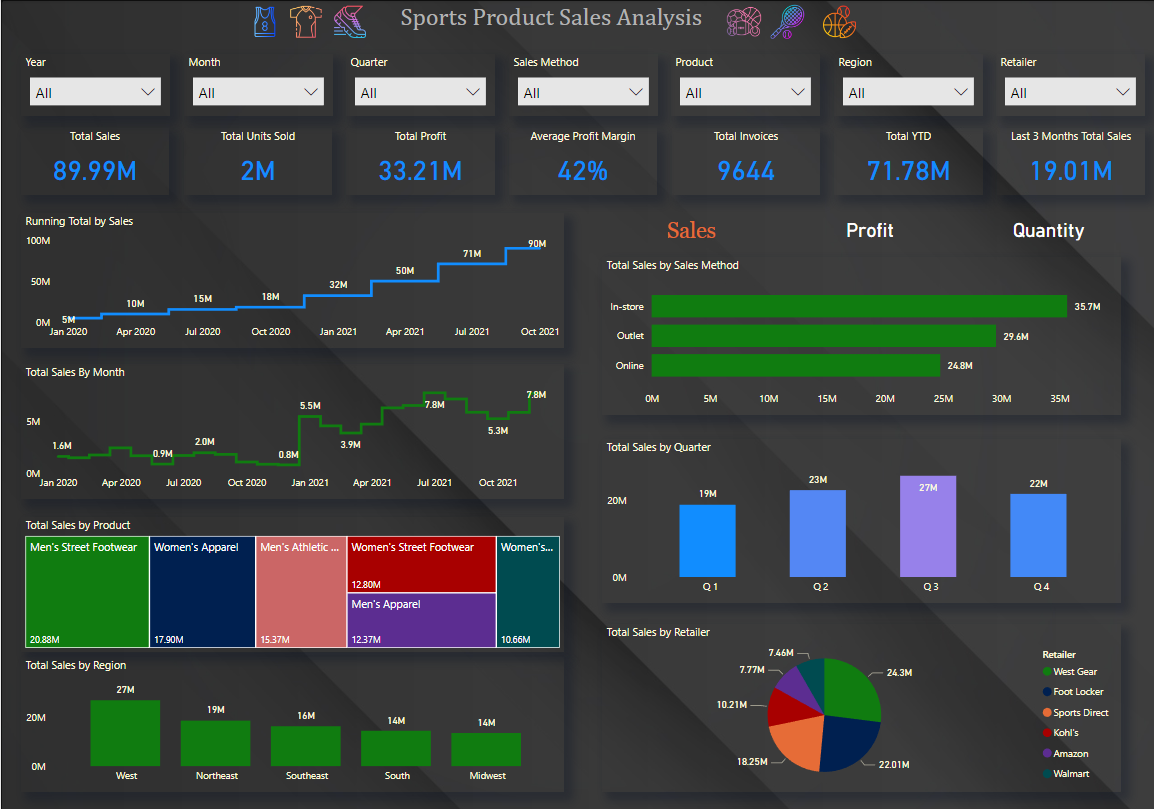

Layout of this report page (visuals, bound fields, positions):
{"tool":"powerbi","page":{"name":"Page 1","canvas":[1280,900],"ordinal":0},"visuals":[{"type":"textbox","box":[437.4,0,406.3,47.6],"z":0},{"type":"slicer","title":"Year","fields":{"Values":["calender.Year"]},"box":[22.2,59.9,165.1,68.7],"z":1000},{"type":"slicer","title":"Month","fields":{"Values":["calender.Month"]},"box":[202.8,59.9,165.1,68.7],"z":2000},{"type":"slicer","title":"Quarter","fields":{"Values":["calender.quarter"]},"box":[382.4,59.9,165.1,68.7],"z":3000},{"type":"slicer","title":"Sales Method","fields":{"Values":["Dim_Sales Method.Sales Method"]},"box":[563.1,59.9,165.1,68.7],"z":4000},{"type":"slicer","title":"Product","fields":{"Values":["Dim_Products.Product"]},"box":[742.6,59.9,165.1,68.7],"z":5000},{"type":"slicer","title":"Region","fields":{"Values":["Dim_Region.Region"]},"box":[923.3,59.9,165.1,68.7],"z":6000},{"type":"slicer","title":"Retailer","fields":{"Values":["Dim_Retailer.Retailer"]},"box":[1102.8,59.9,165.1,68.7],"z":7000},{"type":"card","title":"Total Sales","fields":{"Values":["Sum(Fact_SportProducts.Total Sales)"]},"box":[22.2,141.9,164,74.3],"z":8000},{"type":"card","title":"Total Units Sold","fields":{"Values":["Sum(Fact_SportProducts.Units Sold)"]},"box":[202.8,141.9,164,74.3],"z":9000},{"type":"card","title":"Total Profit","fields":{"Values":["Sum(Fact_SportProducts.Operating Proft)"]},"box":[382.4,141.9,165.1,74.3],"z":10000},{"type":"card","title":"Average Profit Margin","fields":{"Values":["Avg(Fact_SportProducts.Operating Margin)"]},"box":[563.1,141.9,164,74.3],"z":11000},{"type":"card","title":"Total Invoices ","fields":{"Values":["CountNonNull(Fact_SportProducts.Invoice Date)"]},"box":[743.7,141.9,164,74.3],"z":12000},{"type":"card","title":"Total YTD","fields":{"Values":["Measures (2).Total YTD"]},"box":[923.3,141.9,165.1,74.3],"z":13000},{"type":"card","title":"Last 3 Months Total Sales","fields":{"Values":["Measures (2).Last 3 months Sales"]},"box":[1103.9,141.9,164,74.3],"z":14000},{"type":"lineChart","title":"Running Total by Units sold ","fields":{"Category":["calender.Date.Variation.Date Hierarchy.Year","calender.Date.Variation.Date Hierarchy.Quarter","calender.Date.Variation.Date Hierarchy.Month","calender.Date.Variation.Date Hierarchy.Day"],"Y":["Measures (2).Running total units"]},"box":[42.2,256.1,601.8,149.6],"z":32000},{"type":"lineChart","title":"Total Units sold By Month","fields":{"Category":["calender.Date.Variation.Date Hierarchy.Year","calender.Date.Variation.Date Hierarchy.Month"],"Y":["Measures (2).Total Units Sold"]},"box":[42.2,423.4,601.8,149.6],"z":33000},{"type":"treemap","fields":{"Group":["Dim_Products.Product"],"Values":["Measures (2).Total Units Sold"]},"box":[42.2,593,601.8,149.6],"z":34000},{"type":"clusteredColumnChart","fields":{"Category":["Dim_Region.Region"],"Y":["Measures (2).Total Units Sold"]},"box":[42.2,748.2,601.8,149.6],"z":35000},{"type":"columnChart","title":"Total Units sold by Quarter","fields":{"Category":["calender.quarter"],"Y":["Measures (2).Total Units Sold"]},"box":[686.1,506.6,575.2,181.8],"z":36000},{"type":"pieChart","fields":{"Category":["Dim_Retailer.Retailer"],"Y":["Measures (2).Total Units Sold"]},"box":[686.1,711.6,575.2,186.2],"z":37000},{"type":"clusteredBarChart","title":"Total Units sold by Sales Method ","fields":{"Category":["Dim_Sales Method.Sales Method"],"Y":["Measures (2).Total Units Sold"]},"box":[686.1,304.9,575.2,175.1],"z":38000},{"type":"image","box":[240.5,0,103.1,47.7],"z":39000},{"type":"image","box":[286,0,103.1,47.7],"z":40000},{"type":"image","box":[345.8,0,80.9,47.7],"z":41000},{"type":"image","box":[782.5,0,82,47.7],"z":42000},{"type":"image","box":[823.5,0,96.4,47.7],"z":43000},{"type":"image","box":[884.5,0,89.8,47.7],"z":44000},{"type":"bookmarkNavigator","box":[676.1,230.5,575.2,49.9],"z":45000}]}

Visuals, with their boxes in screenshot pixels (x1, y1, x2, y2), scaled from the page's 1280x900 canvas onto the 1154x809 screenshot:
textbox: <region>394, 0, 761, 43</region>
"Year" slicer: <region>20, 54, 169, 116</region>
"Month" slicer: <region>183, 54, 332, 116</region>
"Quarter" slicer: <region>345, 54, 494, 116</region>
"Sales Method" slicer: <region>508, 54, 657, 116</region>
"Product" slicer: <region>670, 54, 818, 116</region>
"Region" slicer: <region>832, 54, 981, 116</region>
"Retailer" slicer: <region>994, 54, 1143, 116</region>
"Total Sales" card: <region>20, 128, 168, 194</region>
"Total Units Sold" card: <region>183, 128, 331, 194</region>
"Total Profit" card: <region>345, 128, 494, 194</region>
"Average Profit Margin" card: <region>508, 128, 656, 194</region>
"Total Invoices " card: <region>670, 128, 818, 194</region>
"Total YTD" card: <region>832, 128, 981, 194</region>
"Last 3 Months Total Sales" card: <region>995, 128, 1143, 194</region>
"Running Total by Units sold " lineChart: <region>38, 230, 581, 365</region>
"Total Units sold By Month" lineChart: <region>38, 381, 581, 515</region>
treemap - Dim_Products.Product x Measures (2).Total Units Sold: <region>38, 533, 581, 668</region>
clusteredColumnChart - Dim_Region.Region x Measures (2).Total Units Sold: <region>38, 673, 581, 807</region>
"Total Units sold by Quarter" columnChart: <region>619, 455, 1137, 619</region>
pieChart - Dim_Retailer.Retailer x Measures (2).Total Units Sold: <region>619, 640, 1137, 807</region>
"Total Units sold by Sales Method " clusteredBarChart: <region>619, 274, 1137, 431</region>
image: <region>217, 0, 310, 43</region>
image: <region>258, 0, 351, 43</region>
image: <region>312, 0, 385, 43</region>
image: <region>705, 0, 779, 43</region>
image: <region>742, 0, 829, 43</region>
image: <region>797, 0, 878, 43</region>
bookmarkNavigator: <region>610, 207, 1128, 252</region>
